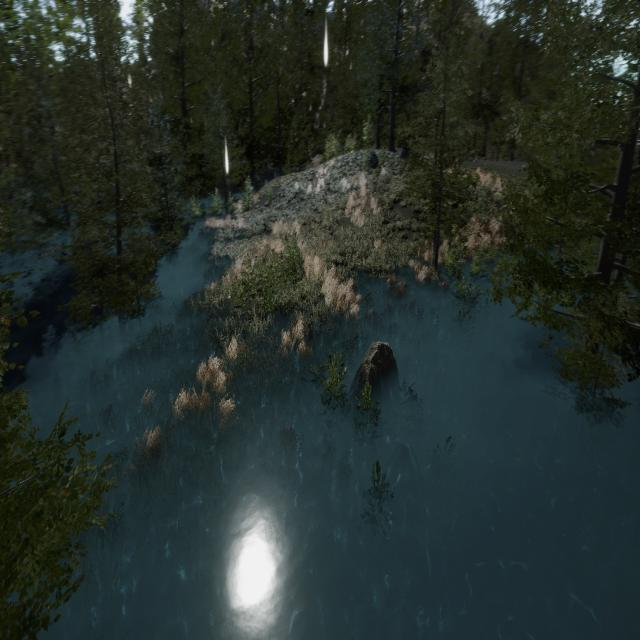Human: (302, 316, 321, 359)
